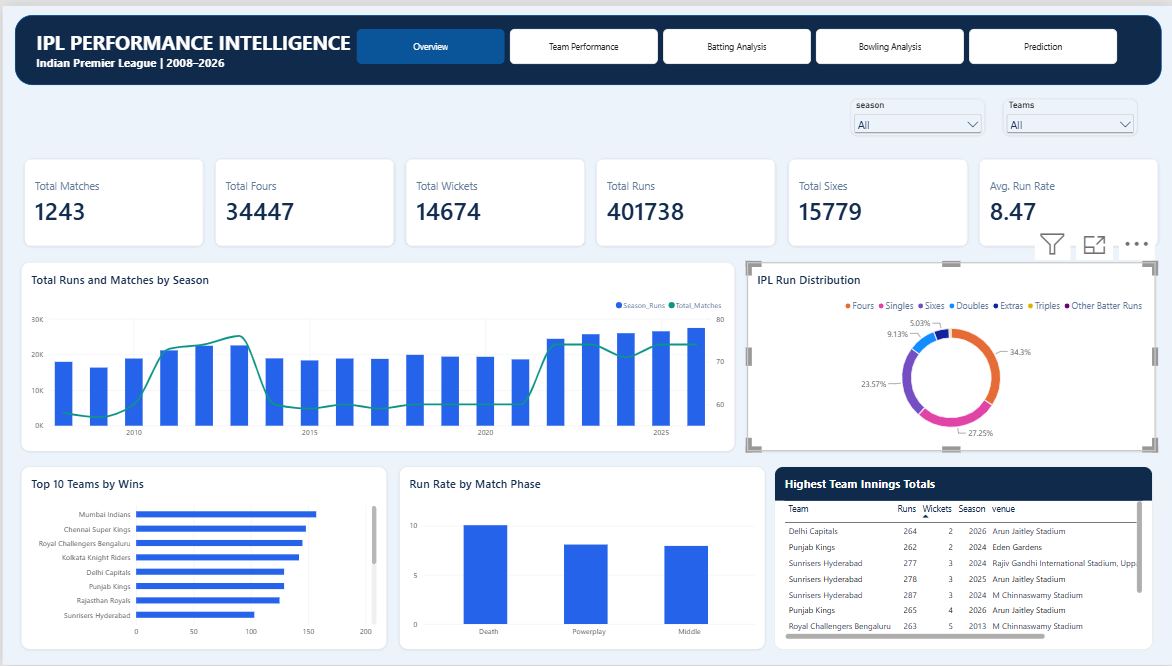

The page's visual inventory and layout, read from the dashboard file:
{"tool":"powerbi","page":{"name":"Overview","canvas":[1920,1080],"ordinal":0},"visuals":[{"type":"shape","box":[20,15,1880,115],"z":0},{"type":"textbox","box":[55,37,1834.4,93.3],"z":1000},{"type":"pageNavigator","box":[580,38,1250,58],"z":2000},{"type":"slicer","fields":{"Values":["ipl_matches.season"]},"box":[1390,153,220,60],"z":3000},{"type":"slicer","fields":{"Values":["ipl_matches.team1"]},"box":[1640,153,220,60],"z":4000},{"type":"cardVisual","fields":{"Data":["ipl_ball_ball.Average_Run_Rate"]},"box":[1599.6,250.7,295,145],"z":5000},{"type":"cardVisual","fields":{"Data":["ipl_ball_ball.Total_Runs_Measure"]},"box":[973.6,250.7,295,145],"z":6000},{"type":"cardVisual","fields":{"Data":["ipl_ball_ball.Total_Matches"]},"box":[34.6,250.7,295,145],"z":7000},{"type":"cardVisual","fields":{"Data":["ipl_ball_ball.Total_Wickets_Final"]},"box":[660.6,250.7,295,145],"z":8000},{"type":"cardVisual","fields":{"Data":["ipl_ball_ball.Total_Sixes"]},"box":[1286.6,250.7,295,145],"z":9000},{"type":"cardVisual","fields":{"Data":["ipl_ball_ball.Total_Fours"]},"box":[347.6,250.7,295,145],"z":10000},{"type":"lineClusteredColumnComboChart","title":"Total Runs and Matches by Season","fields":{"Category":["ipl_matches.season"],"Y":["ipl_ball_ball.Season_Runs"],"Y2":["ipl_ball_ball.Total_Matches"]},"box":[30,420,1170,310],"z":11000},{"type":"donutChart","title":"IPL Run Distribution","fields":{"Category":["Run_Categories.Category"],"Y":["Run_Categories.Run_Distribution"]},"box":[1220,420,670,310],"z":12000},{"type":"clusteredBarChart","title":"Top 10 Teams by Wins","fields":{"Category":["ipl_matches.winner"],"Y":["ipl_matches.Team_Wins_Verified"]},"box":[30,755,600,300],"z":13000},{"type":"clusteredColumnChart","title":"Run Rate by Match Phase","fields":{"Category":["ipl_ball_ball.phase"],"Y":["ipl_ball_ball.Phase_Run_Rate"]},"box":[650,755,600,300],"z":14000},{"type":"tableEx","title":"Highest Team Innings Totals","fields":{"Values":["Innings_Summary.batting_team","Innings_Summary.Total_Runs","Innings_Summary.Wickets","ipl_matches.season","ipl_matches.venue","Innings_Summary.match_id","Innings_Summary.innings"]},"box":[1265,755,620,300],"z":15000}]}

Visuals, with their boxes in screenshot pixels (x1, y1, x2, y2), scaled from the page's 1920x1080 canvas onto the 1172x666 screenshot:
shape: 12/9/1160/80
textbox: 34/23/1153/80
pageNavigator: 354/23/1117/59
slicer - ipl_matches.season: 848/94/983/131
slicer - ipl_matches.team1: 1001/94/1135/131
cardVisual - ipl_ball_ball.Average_Run_Rate: 976/155/1156/244
cardVisual - ipl_ball_ball.Total_Runs_Measure: 594/155/774/244
cardVisual - ipl_ball_ball.Total_Matches: 21/155/201/244
cardVisual - ipl_ball_ball.Total_Wickets_Final: 403/155/583/244
cardVisual - ipl_ball_ball.Total_Sixes: 785/155/965/244
cardVisual - ipl_ball_ball.Total_Fours: 212/155/392/244
"Total Runs and Matches by Season" lineClusteredColumnComboChart: 18/259/733/450
"IPL Run Distribution" donutChart: 745/259/1154/450
"Top 10 Teams by Wins" clusteredBarChart: 18/466/385/651
"Run Rate by Match Phase" clusteredColumnChart: 397/466/763/651
"Highest Team Innings Totals" tableEx: 772/466/1151/651
